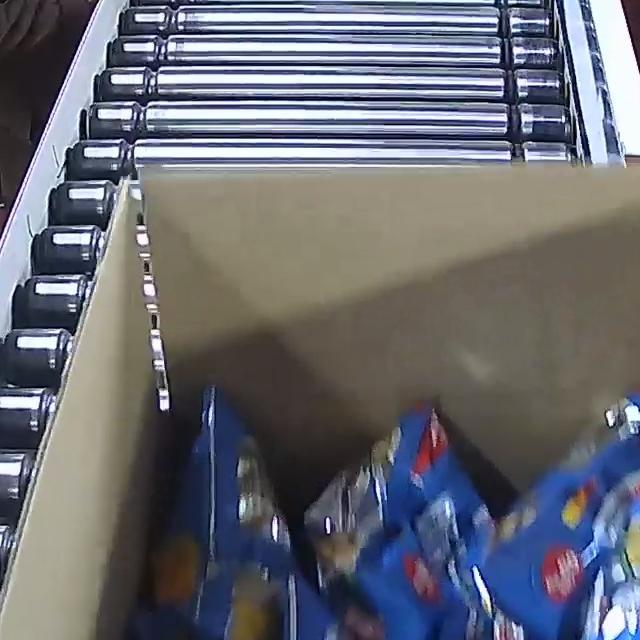paprika: (71, 367, 640, 640)
